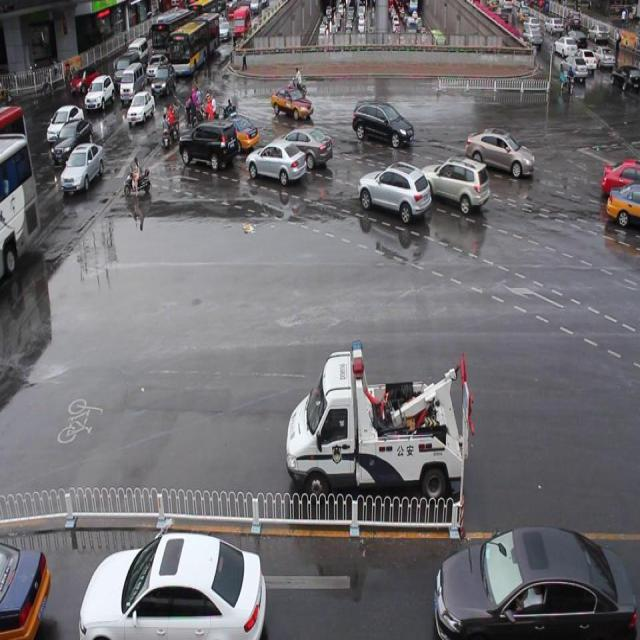bus: (285, 338, 464, 498)
car: (357, 163, 431, 226), (417, 154, 488, 215), (464, 125, 534, 178), (350, 98, 414, 149), (244, 136, 306, 186), (272, 124, 333, 170), (604, 179, 640, 230), (213, 114, 259, 152), (600, 159, 640, 199), (270, 85, 312, 120)
truck: (179, 118, 237, 168)
